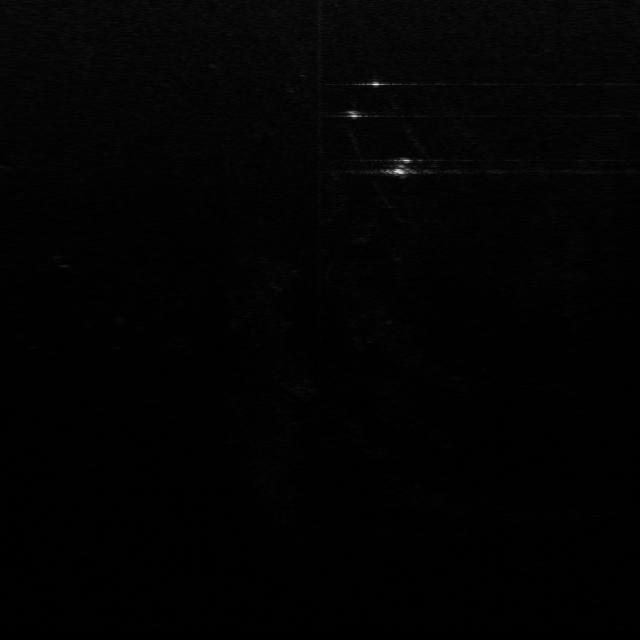rov: (383, 155, 416, 177)
